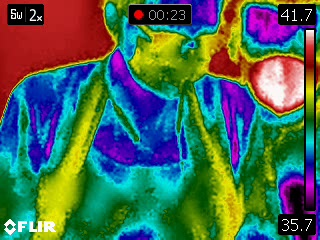human: (1, 1, 275, 240), (219, 1, 319, 239)
